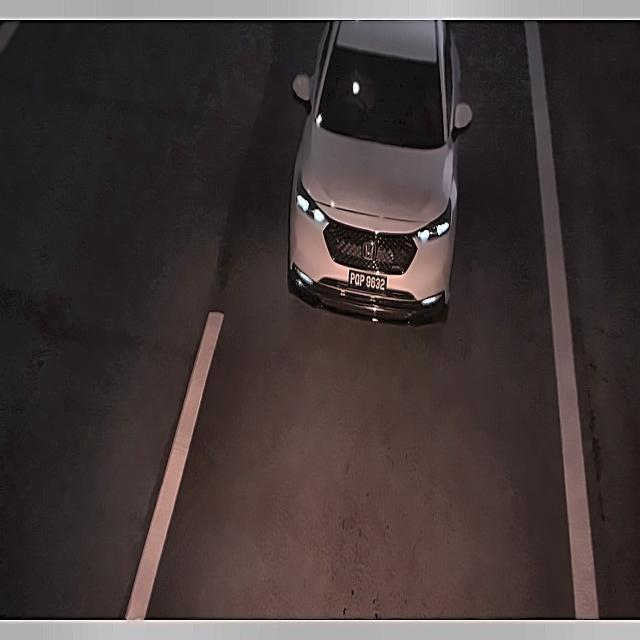car: (344, 263, 390, 297)
